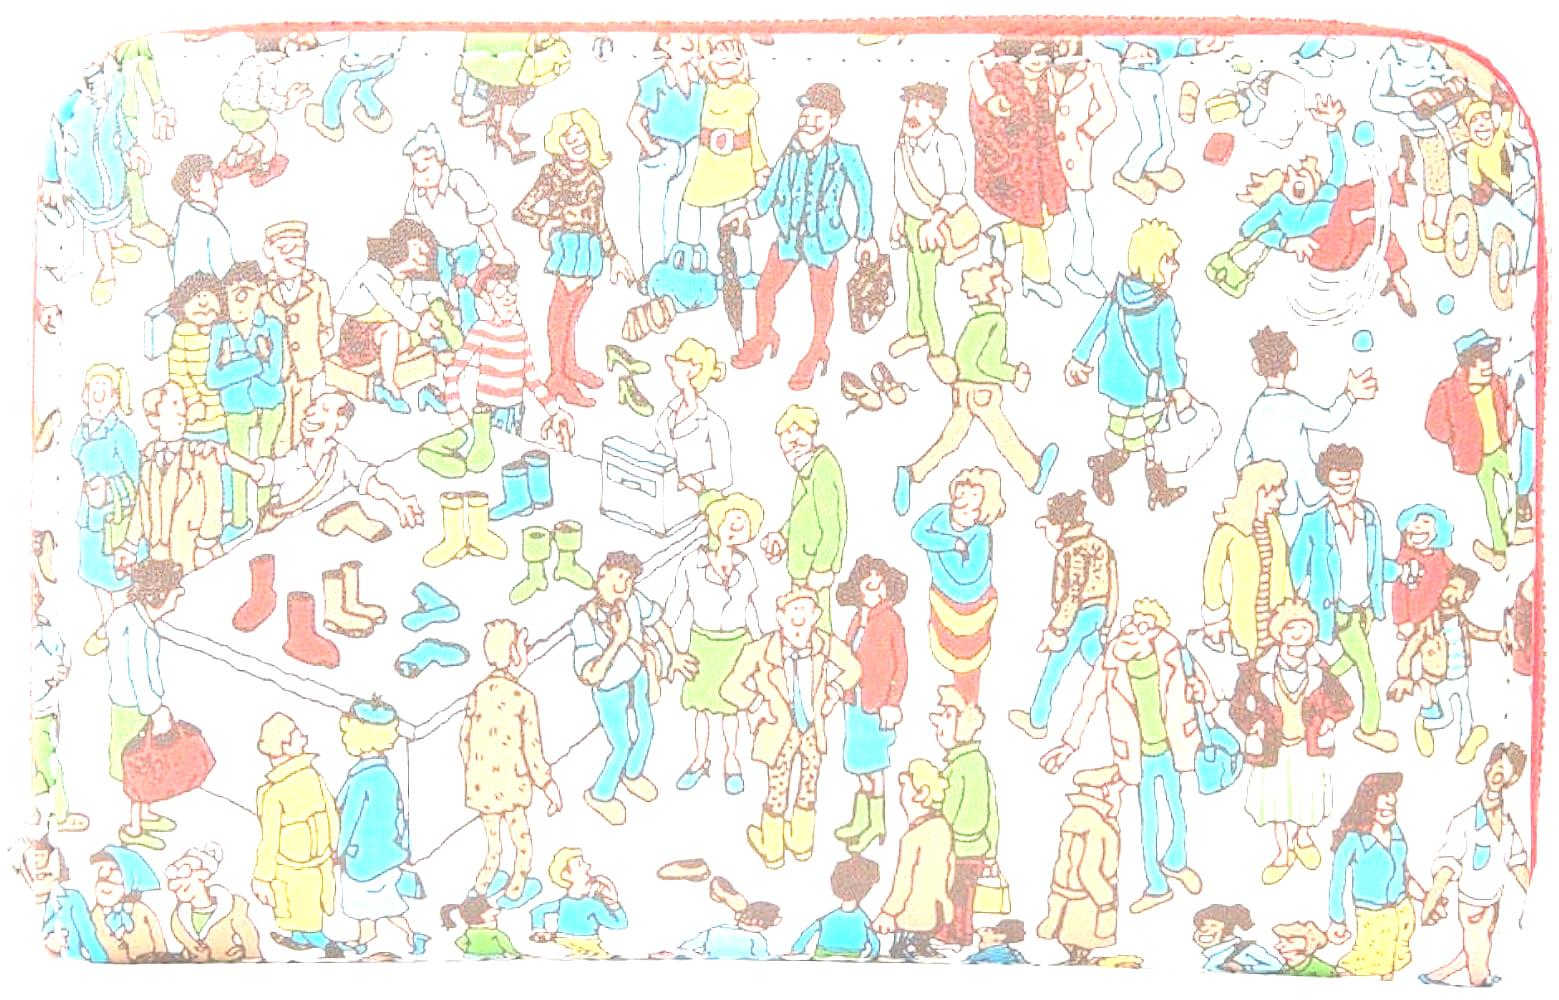waldos: (445, 267, 555, 431)
